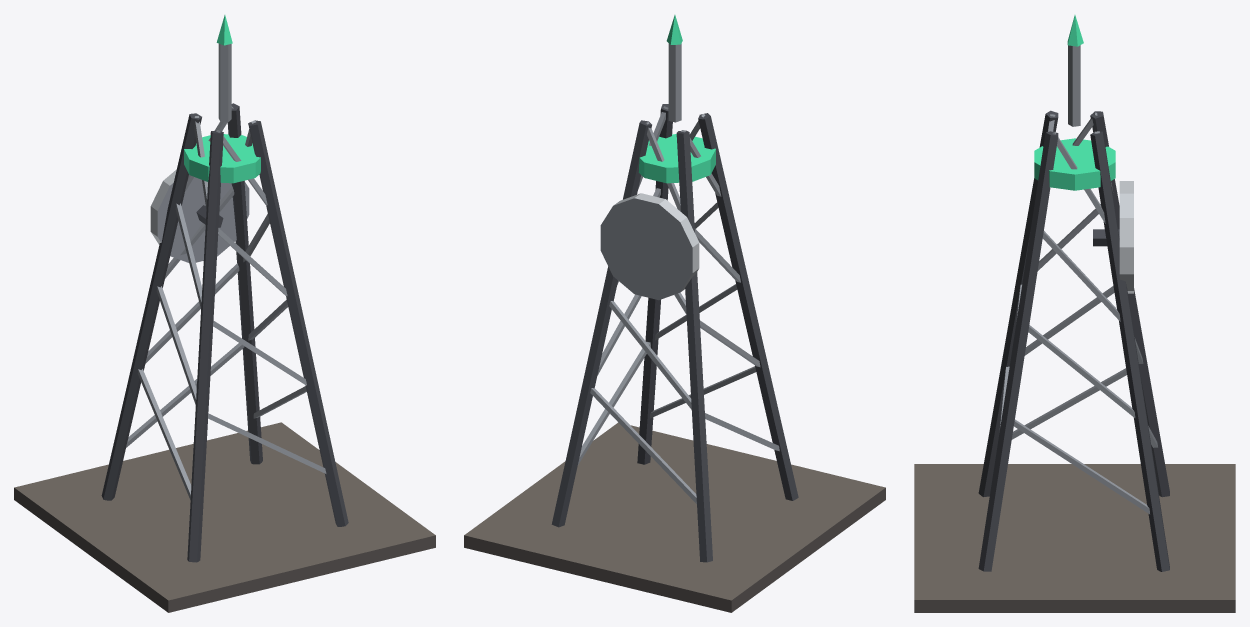
The model's file is relay.obj.
3 renders of one model, left to right at view 1: azimuth 30°, elevation 25°; view 2: azimuth 150°, elevation 25°; view 3: azimuth 270°, elevation 25°, orthographic. The views are drawn at different scales.
Bounding box in the file's own units: 1.8 × 3.28 × 1.8.
